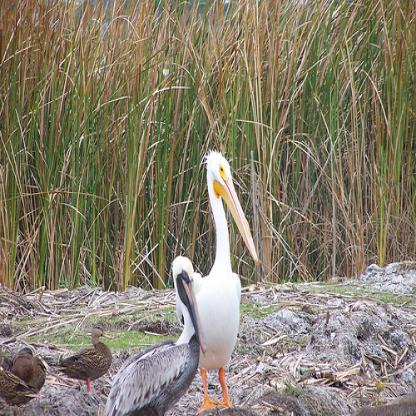bird: (177, 149, 256, 412), (104, 254, 203, 415), (58, 322, 112, 392), (10, 344, 45, 400), (0, 370, 37, 407)
